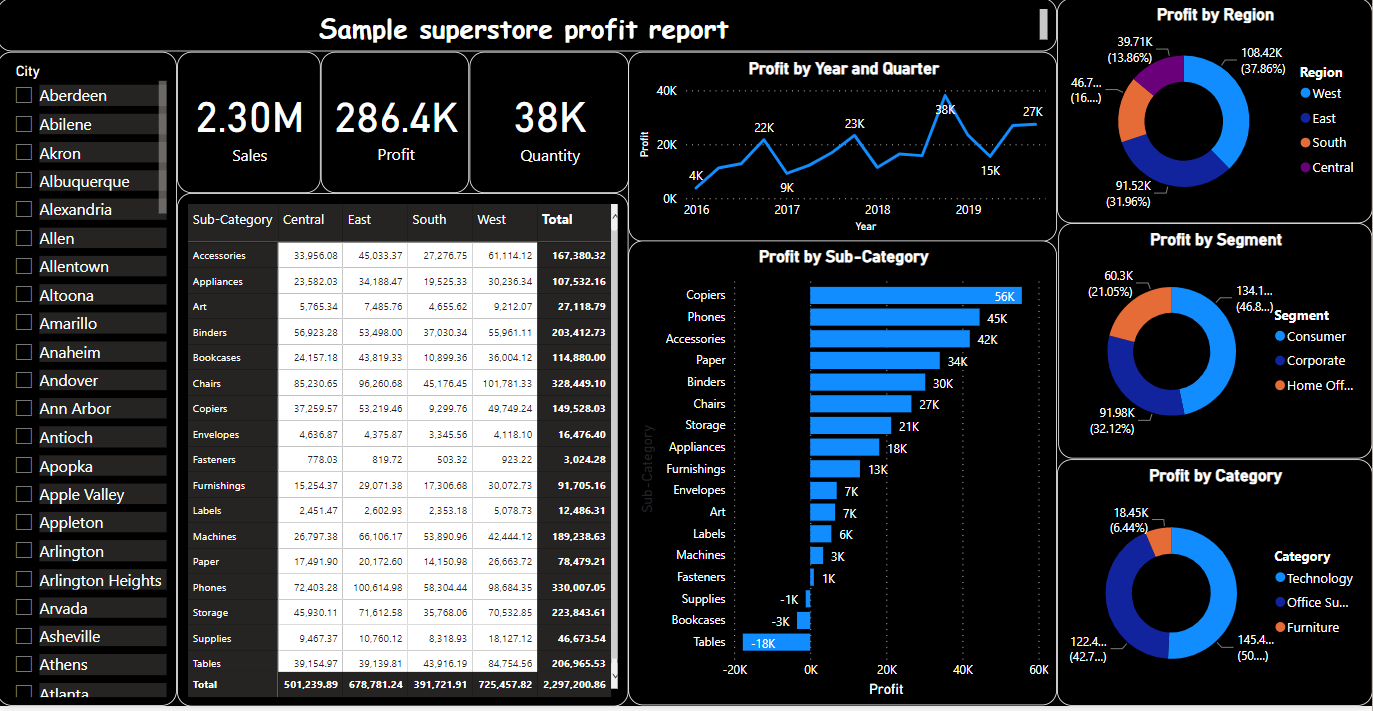

Layout of this report page (visuals, bound fields, positions):
{"tool":"powerbi","page":{"name":"Page 1","canvas":[1401,721],"ordinal":0},"visuals":[{"type":"donutChart","fields":{"Y":["Sum(Orders.Profit)"],"Category":["Orders.Region"]},"box":[1079.7,0,321.2,229.5],"z":0},{"type":"donutChart","fields":{"Y":["Sum(Orders.Profit)"],"Category":["Orders.Segment"]},"box":[1080.9,229.5,320,240.3],"z":1000},{"type":"donutChart","fields":{"Category":["Orders.Category"],"Y":["Sum(Orders.Profit)"]},"box":[1079.7,469.8,321.2,251.2],"z":2000},{"type":"textbox","box":[0,0,1079.7,54.3],"z":3000},{"type":"slicer","fields":{"Values":["Orders.City"]},"box":[0,54.3,183.6,666.7],"z":4000},{"type":"card","fields":{"Values":["Sum(Orders.Sales)"]},"box":[183.9,54.8,146.2,143.7],"z":5000},{"type":"card","fields":{"Values":["Sum(Orders.Profit)"]},"box":[330.1,54.8,151.1,143.7],"z":6000},{"type":"card","fields":{"Values":["Sum(Orders.Quantity)"]},"box":[481.2,54.8,162,143.7],"z":7000},{"type":"lineChart","fields":{"Y":["Sum(Orders.Profit)"],"Category":["Orders.Order Date.Variation.Date Hierarchy.Year","Orders.Order Date.Variation.Date Hierarchy.Quarter","Orders.Order Date.Variation.Date Hierarchy.Month","Orders.Order Date.Variation.Date Hierarchy.Day"]},"box":[643.7,54.3,437.2,193.2],"z":8000},{"type":"barChart","fields":{"Category":["Orders.Sub-Category"],"Y":["Sum(Orders.Profit)"]},"box":[643.7,247.6,437.2,473.4],"z":9000},{"type":"pivotTable","fields":{"Rows":["Orders.Sub-Category"],"Columns":["Orders.Region"],"Values":["Sum(Orders.Sales)"]},"box":[183.6,198.1,460.1,522.9],"z":10000}]}

Visuals, with their boxes in screenshot pixels (x1, y1, x2, y2), scaled from the page's 1401x721 canvas onto the 1373x711 screenshot:
donutChart - Sum(Orders.Profit) x Orders.Region: Rect(1058, 0, 1372, 226)
donutChart - Sum(Orders.Profit) x Orders.Segment: Rect(1059, 226, 1372, 463)
donutChart - Orders.Category x Sum(Orders.Profit): Rect(1058, 463, 1372, 710)
textbox: Rect(0, 0, 1058, 54)
slicer - Orders.City: Rect(0, 54, 180, 710)
card - Sum(Orders.Sales): Rect(180, 54, 324, 196)
card - Sum(Orders.Profit): Rect(324, 54, 472, 196)
card - Sum(Orders.Quantity): Rect(472, 54, 630, 196)
lineChart - Sum(Orders.Profit) x Orders.Order Date.Variation.Date Hierarchy.Year: Rect(631, 54, 1059, 244)
barChart - Orders.Sub-Category x Sum(Orders.Profit): Rect(631, 244, 1059, 710)
pivotTable - Orders.Sub-Category x Orders.Region: Rect(180, 195, 631, 710)
